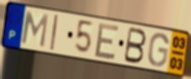5: (74, 19, 94, 56)
B: (122, 26, 148, 66)
E: (93, 22, 121, 61)
G: (147, 32, 170, 68)
I: (49, 13, 60, 52)
M: (20, 10, 50, 49)
